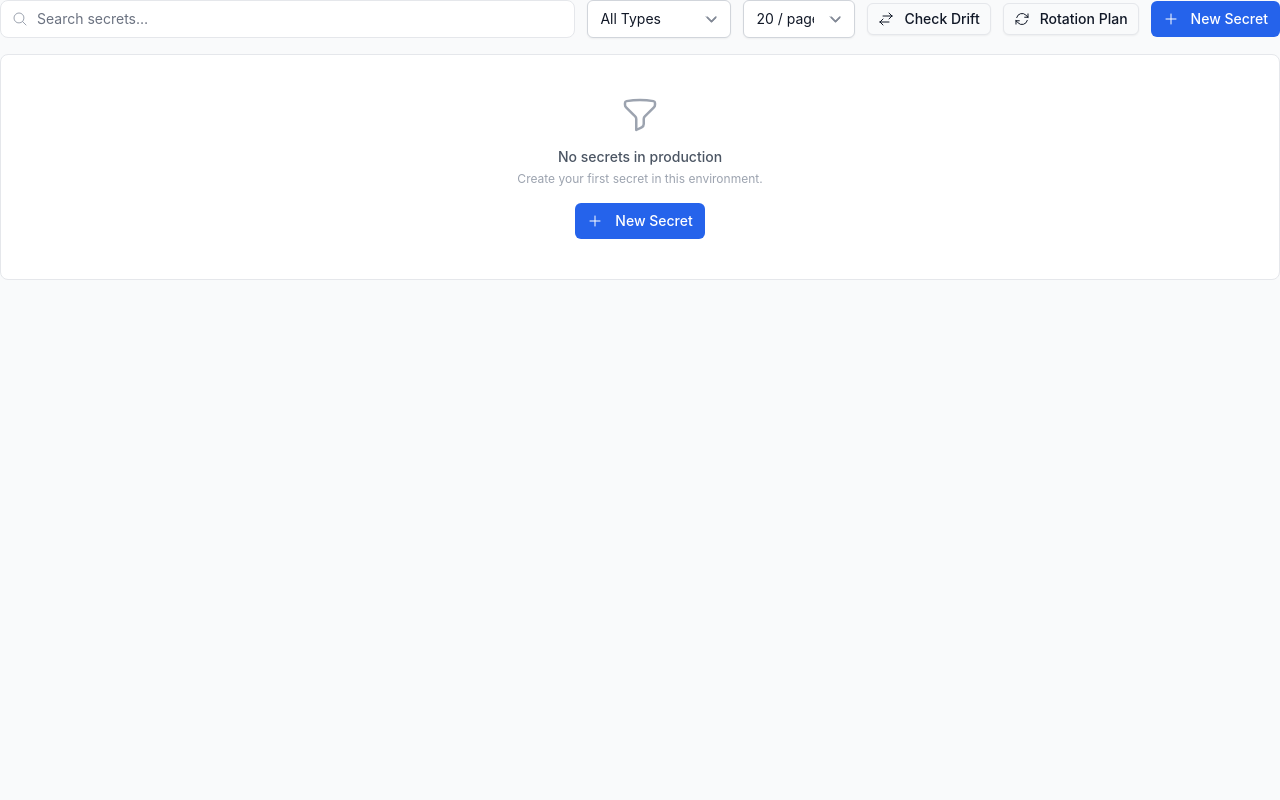
it: ProjectSecretsTab — filtered-empty state › opens the create modal from the empty-state New Secret button
This screenshot has width=1280, height=800.
// Index 1 is the empty-state's own New Secret action (index 0 is the toolbar's).
Click the button "New Secret" below "No secrets in production".
click(640, 221)  # box x1=575 y1=203 x2=705 y2=239
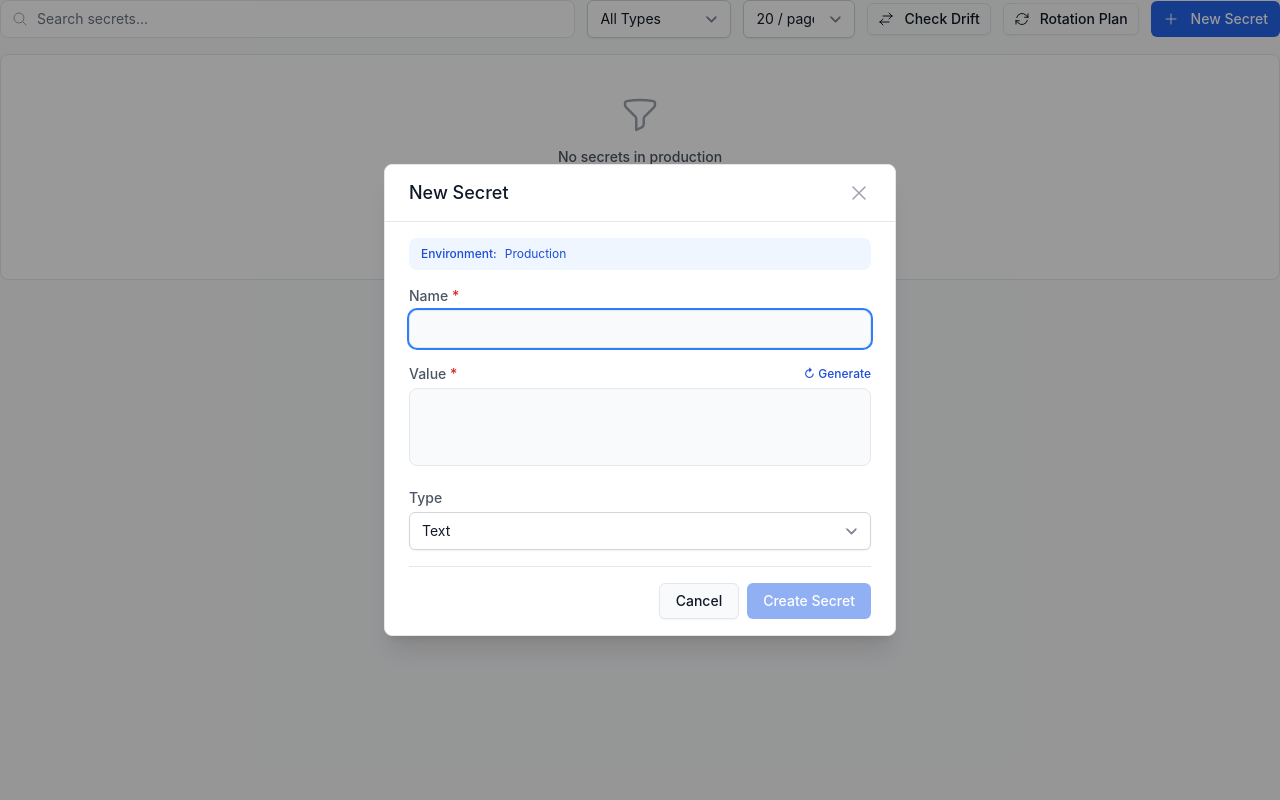
Result: the heading "New Secret" is shown at x1=409 y1=181 x2=508 y2=205
